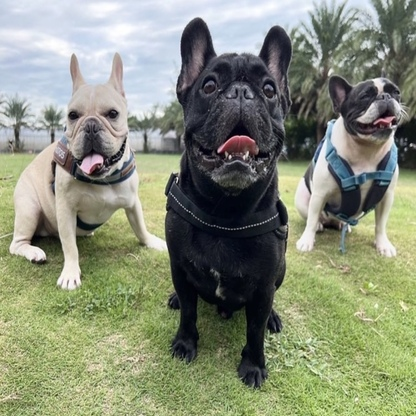bulldog: (164, 15, 294, 390), (7, 50, 165, 294), (294, 67, 416, 261)
